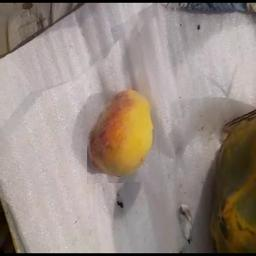Peach Semifresh: (88, 84, 163, 185)
